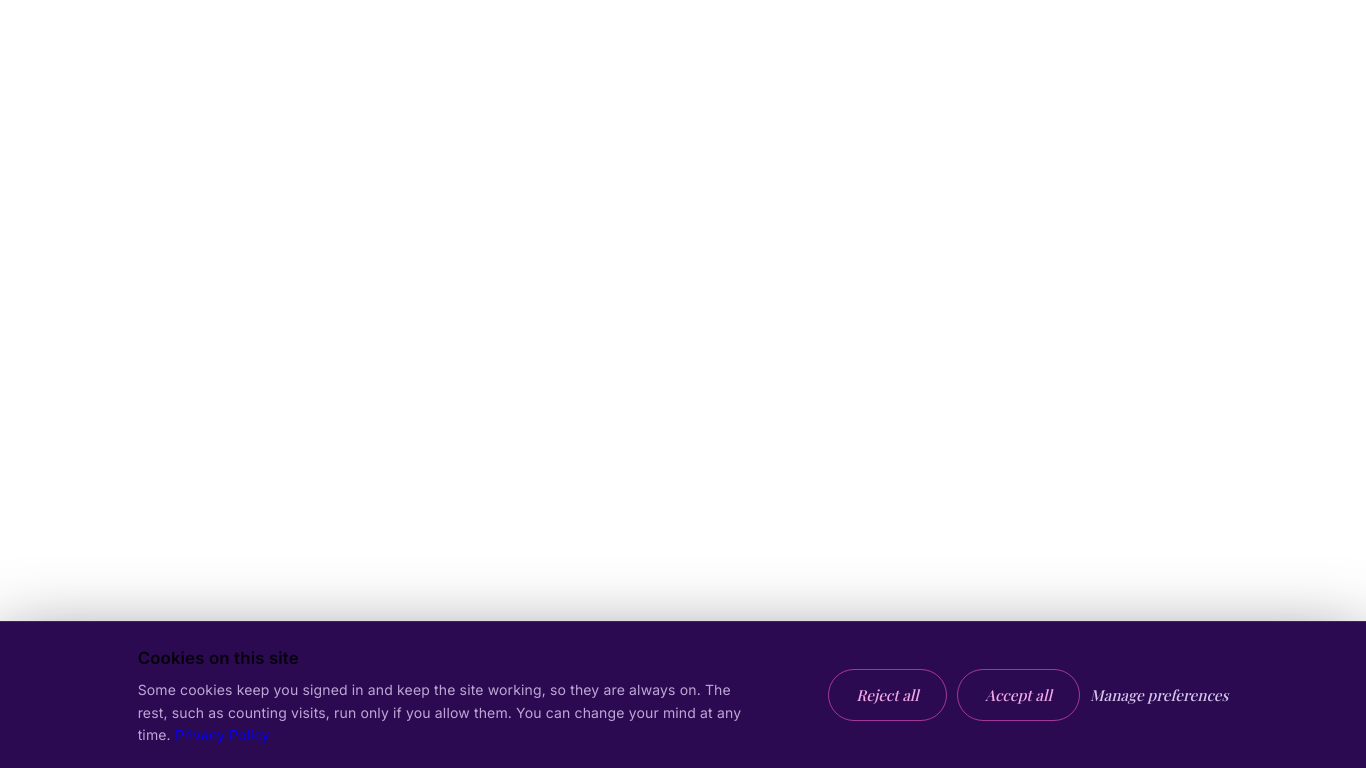
it: answering it › opens the per-category dialog from Manage preferences
Click the button "Manage preferences" at (1159, 695), box x1=1090 y1=682 x2=1228 y2=708
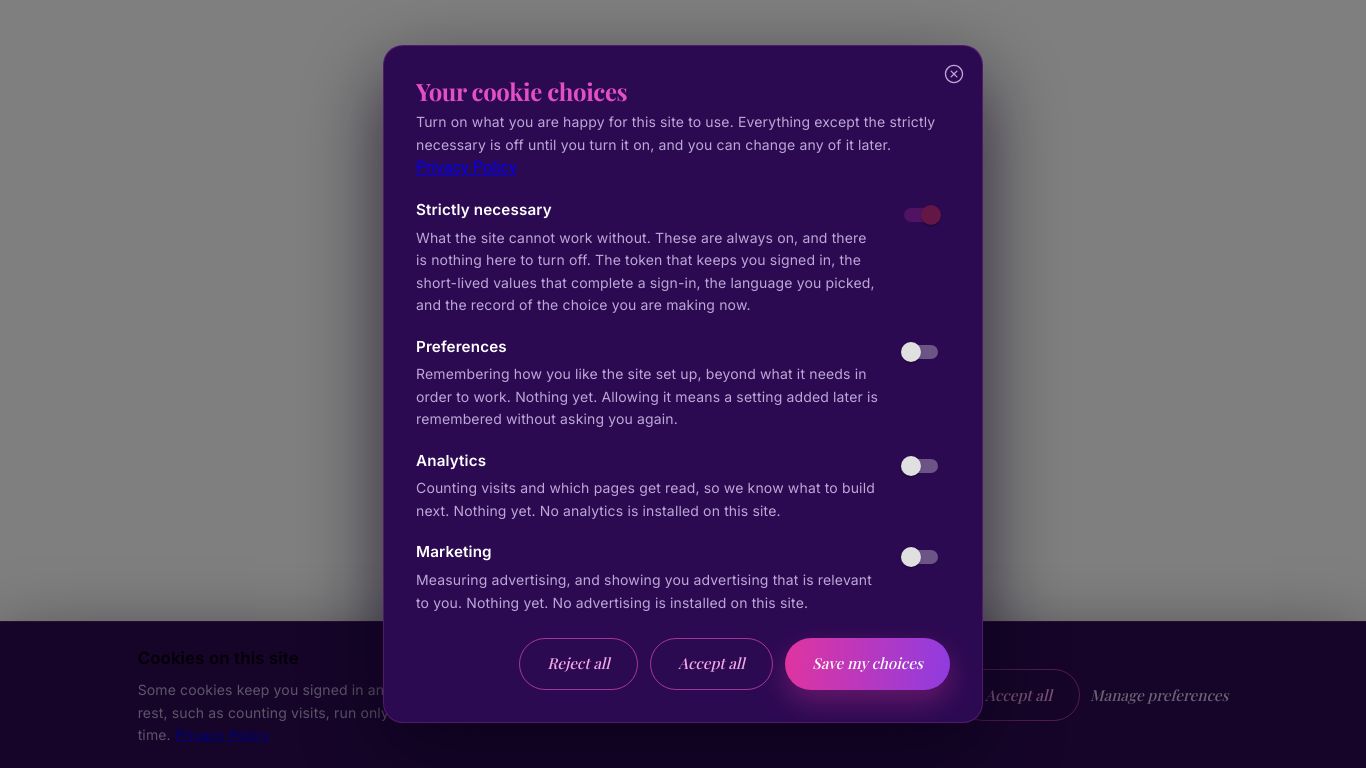
expect the dialog "Your cookie choices" is shown: met, box x1=383 y1=46 x2=983 y2=723
